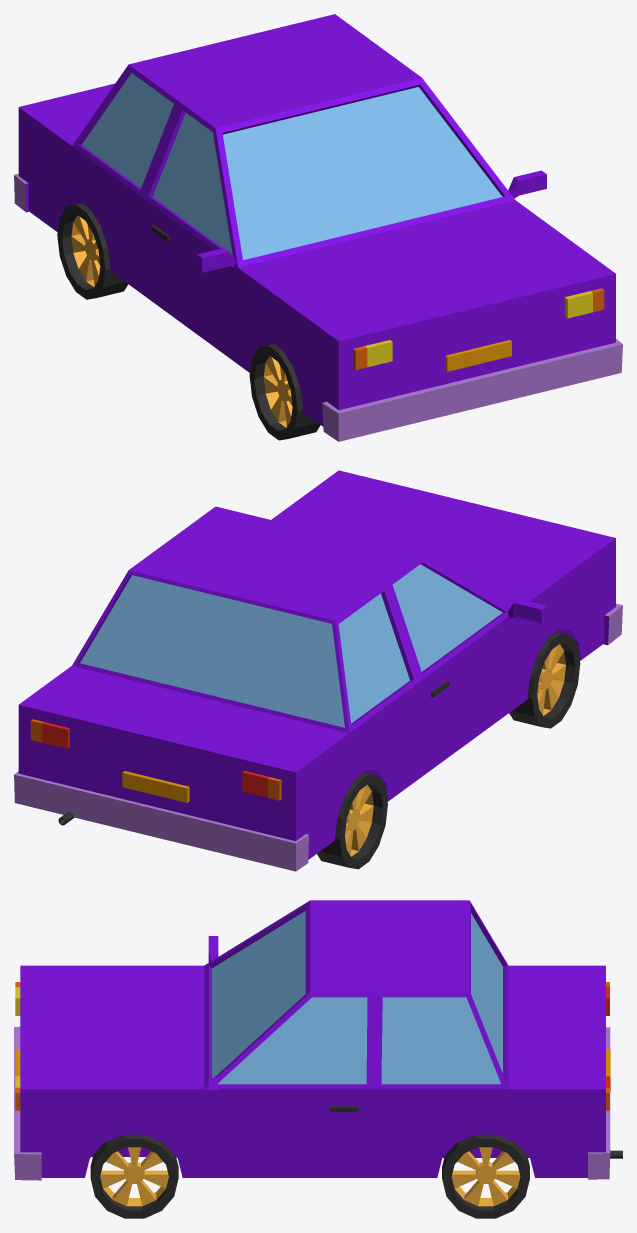
The model's file is Base_Car _Rotation.fbx.
3 renders of one model, top to bottom at view 1: azimuth 30°, elevation 25°; view 2: azimuth 150°, elevation 25°; view 3: azimuth 270°, elevation 25°, orthographic. The views are drawn at different scales.
Parts seen in each view (by area): view 1: CarBody, RightFrontWheel, RightBackWheel, FrontLights, Mirrors, FrontNumberPlate; view 2: CarBody, RightBackWheel, RightFrontWheel, BackLights, BackNumberPlate, Mirrors; view 3: CarBody, LeftFrontWheel, LeftBackWheel, Mirrors.
Part boxes in pixels (left/top/right/bottom): CarBody: left=14, top=14, right=622, bottom=441; RightFrontWheel: left=249, top=343, right=320, bottom=440; RightBackWheel: left=57, top=203, right=128, bottom=299; FrontLights: left=353, top=288, right=604, bottom=369; Mirrors: left=196, top=170, right=546, bottom=272; FrontNumberPlate: left=445, top=340, right=511, bottom=371; CarBody: left=14, top=470, right=622, bottom=871; RightBackWheel: left=317, top=772, right=387, bottom=869; RightFrontWheel: left=509, top=631, right=580, bottom=728; BackLights: left=30, top=719, right=281, bottom=800; BackNumberPlate: left=122, top=771, right=189, bottom=802; Mirrors: left=507, top=599, right=546, bottom=623; CarBody: left=14, top=900, right=610, bottom=1180; LeftFrontWheel: left=90, top=1134, right=178, bottom=1218; LeftBackWheel: left=442, top=1134, right=529, bottom=1218; Mirrors: left=208, top=936, right=218, bottom=1103.
Size of the model in its own units: 373 by 237 by 624.
